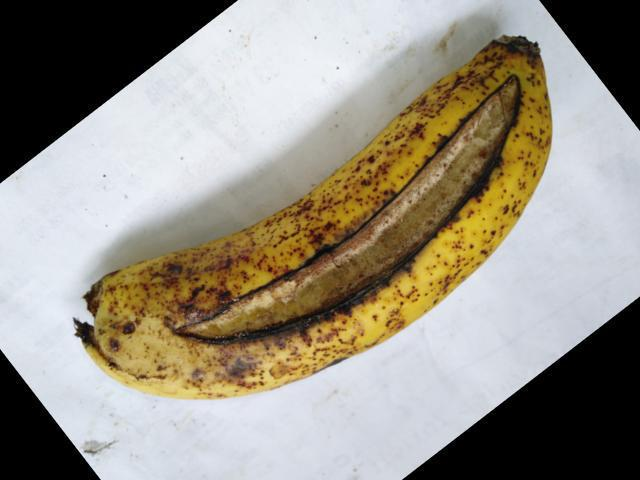rotten: (174, 62, 528, 402)
